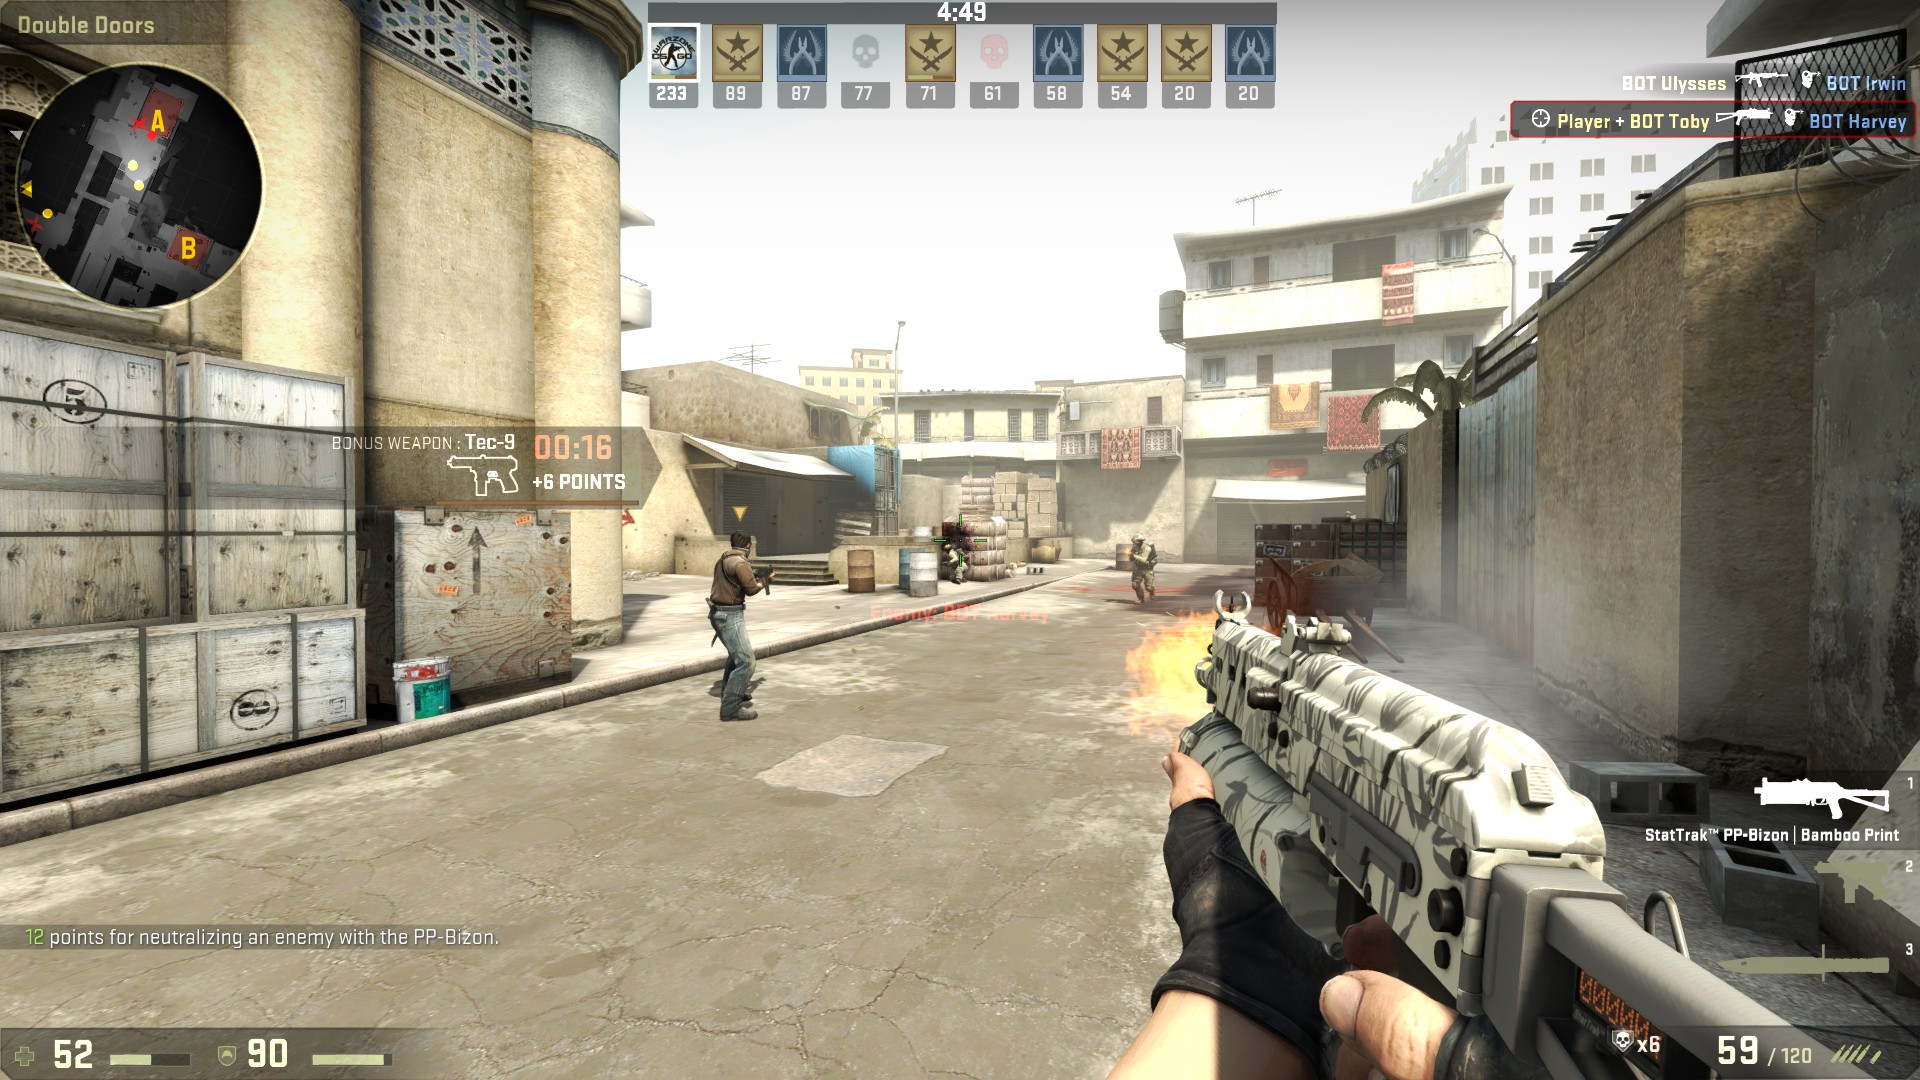c: (1124, 533, 1160, 605)
ch: (1129, 531, 1149, 551)
t: (702, 527, 777, 727)
th: (727, 530, 756, 559)
